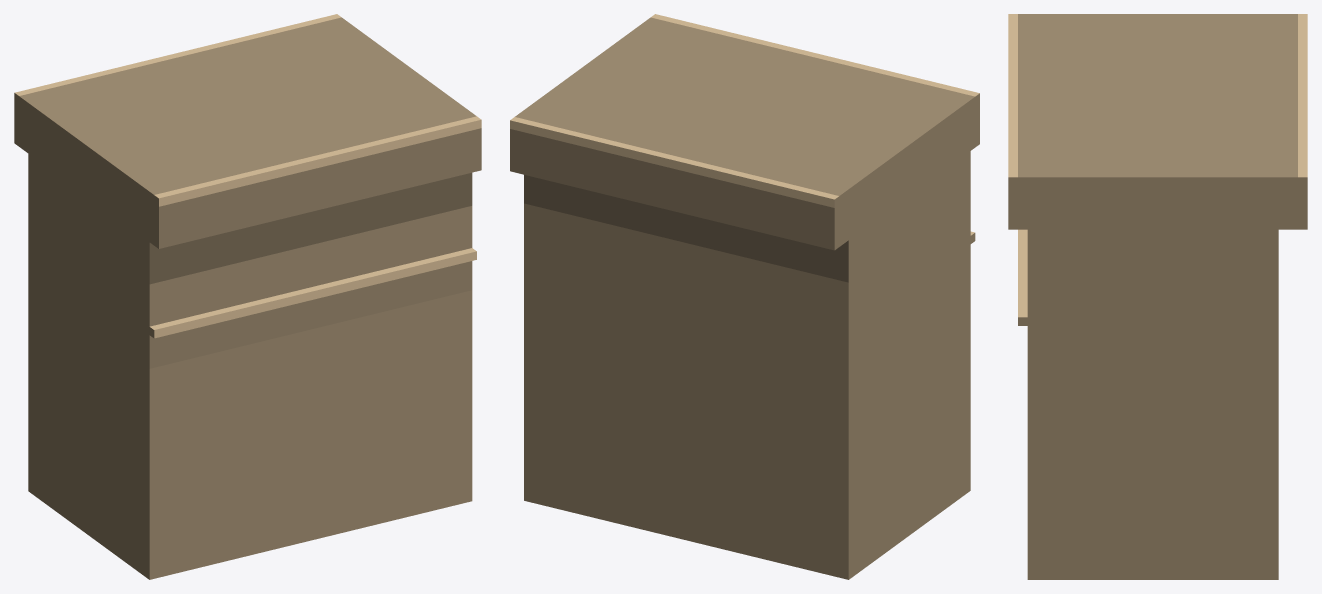
Rendered from Desk1.fbx.
The picture shows the model from 3 angles, left to right: view 1: azimuth 30°, elevation 25°; view 2: azimuth 150°, elevation 25°; view 3: azimuth 270°, elevation 25°; orthographic projection. The views are drawn at different scales.
Parts seen in each view (by area): view 1: Cube.005; view 2: Cube.005; view 3: Cube.005.
Part boxes in pixels (x1,y1,x2,y2): Cube.005: (14,14,481,579); Cube.005: (510,14,979,579); Cube.005: (1008,14,1307,579).
Size of the model in its own units: 400 by 460 by 310.
